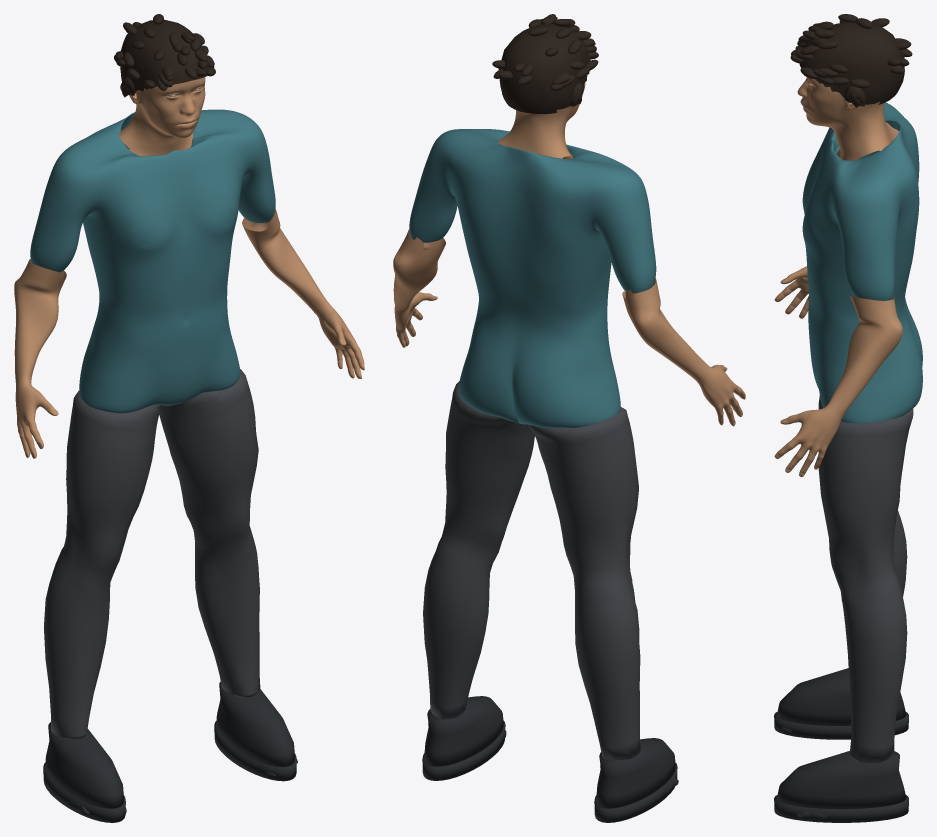
The picture shows the model from 3 angles, left to right: view 1: azimuth 30°, elevation 25°; view 2: azimuth 150°, elevation 25°; view 3: azimuth 270°, elevation 25°; orthographic projection.
Visible parts, largest first — view 1: Fitted teal short sleeve T-shirt, Charcoal trousers, gen3d_mpfb_body, Rounded sneaker upper.001, Rounded sneaker upper, Short dark hair cap, Sneaker rubber sole.001, Sneaker rubber sole; view 2: Fitted teal short sleeve T-shirt, Charcoal trousers, gen3d_mpfb_body, Short dark hair cap, Rounded sneaker upper.001, Rounded sneaker upper, Sneaker rubber sole.001, Sneaker rubber sole; view 3: Fitted teal short sleeve T-shirt, Charcoal trousers, gen3d_mpfb_body, Rounded sneaker upper.001, Short dark hair cap, Rounded sneaker upper, Sneaker rubber sole.001, Sneaker rubber sole.
Boxes of the visible parts, x1,y1,x2,y2 form: Fitted teal short sleeve T-shirt: [30, 109, 275, 413]; Charcoal trousers: [44, 369, 260, 738]; gen3d_mpfb_body: [14, 77, 364, 815]; Rounded sneaker upper.001: [216, 682, 294, 766]; Rounded sneaker upper: [45, 722, 123, 808]; Short dark hair cap: [120, 19, 208, 97]; Sneaker rubber sole.001: [214, 721, 296, 781]; Sneaker rubber sole: [43, 763, 125, 822]; Fitted teal short sleeve T-shirt: [409, 129, 656, 427]; Charcoal trousers: [423, 381, 640, 760]; gen3d_mpfb_body: [393, 82, 745, 793]; Short dark hair cap: [499, 24, 590, 113]; Rounded sneaker upper.001: [424, 696, 503, 766]; Rounded sneaker upper: [596, 738, 675, 808]; Sneaker rubber sole.001: [422, 720, 505, 780]; Sneaker rubber sole: [594, 762, 677, 822]; Fitted teal short sleeve T-shirt: [802, 102, 922, 423]; Charcoal trousers: [818, 395, 913, 763]; gen3d_mpfb_body: [774, 77, 902, 819]; Rounded sneaker upper.001: [777, 751, 906, 809]; Short dark hair cap: [799, 22, 904, 107]; Rounded sneaker upper: [777, 668, 906, 725]; Sneaker rubber sole.001: [774, 795, 908, 822]; Sneaker rubber sole: [774, 712, 908, 739].
Size of the model in its own units: 0.8548 by 1.85 by 0.3329.
